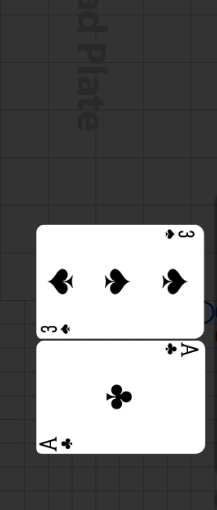3S: (163, 228, 196, 241)
AC: (39, 434, 78, 451)
